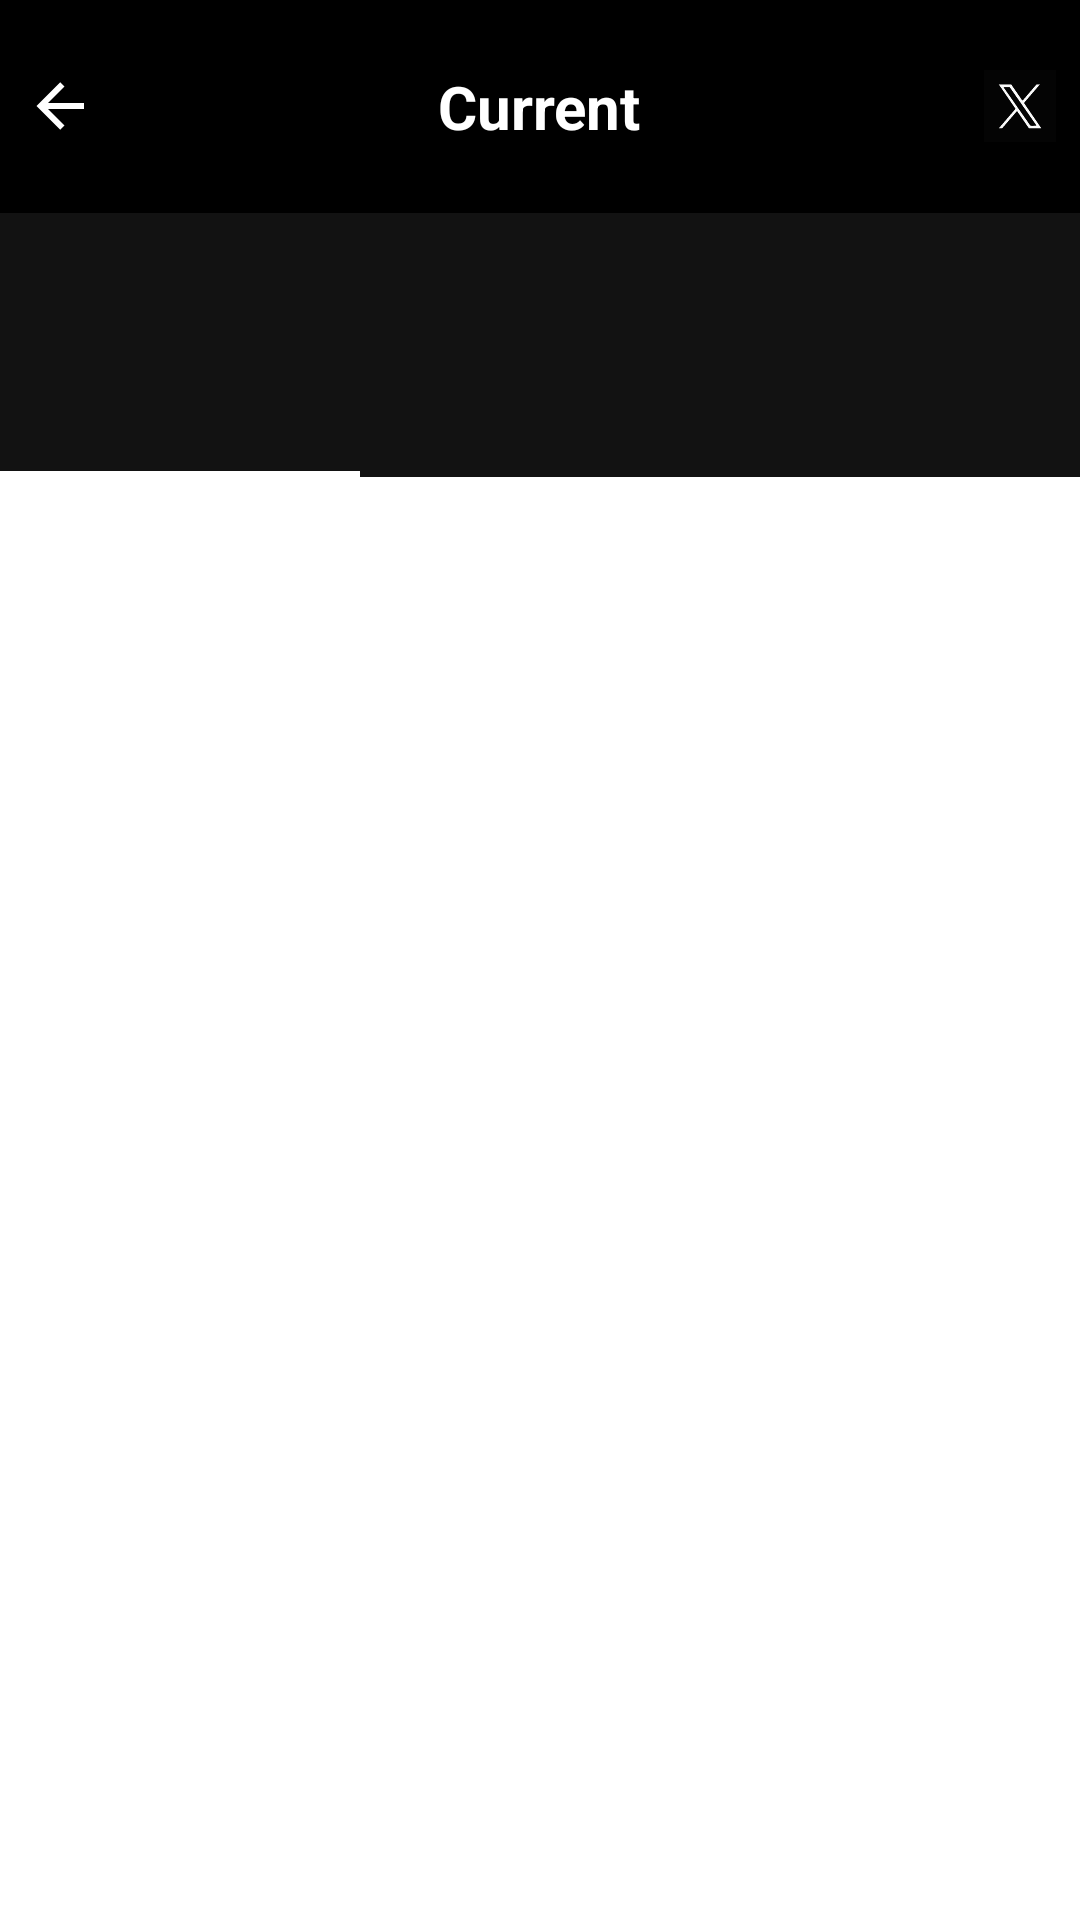

Named icons in this screenshot (1080x1920) and their centers, (x=x, y=y):
arrow left: (x=60, y=106)
